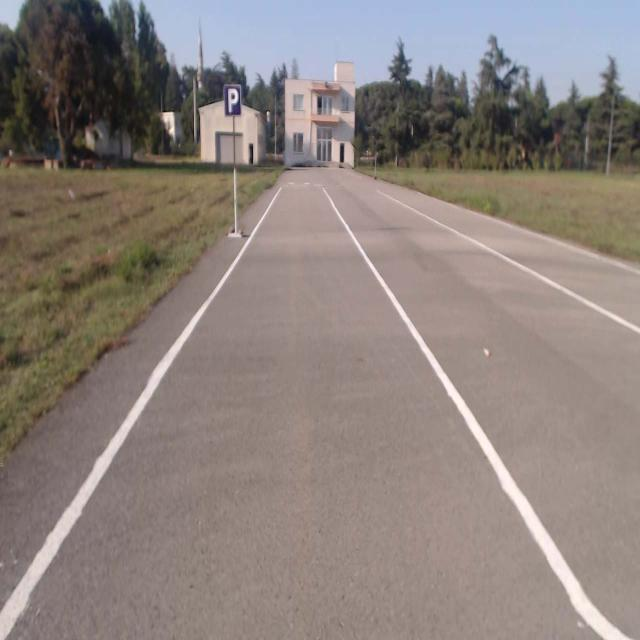park: (223, 85, 241, 116)
